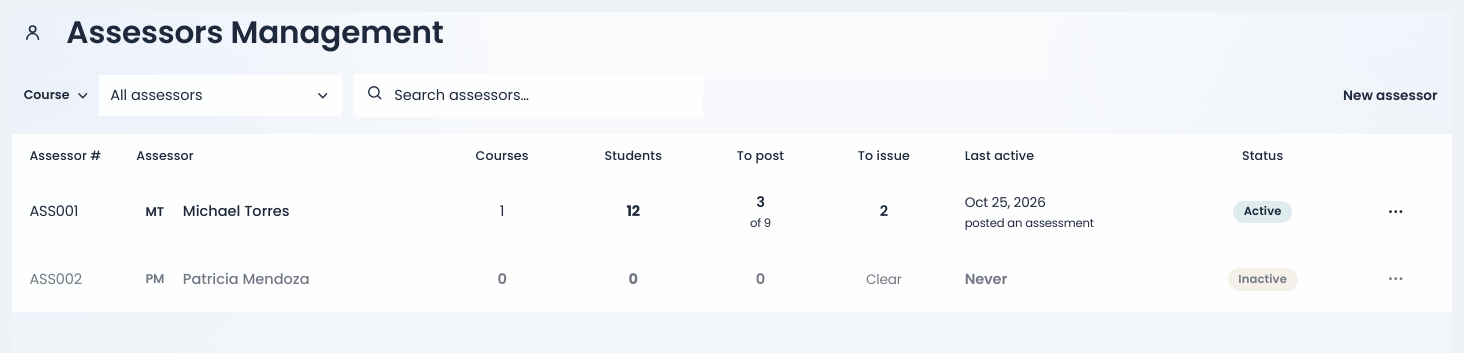
Test: AssessorsManagement — the students-list interface › narrows by status, which no dropdown here could answer before
Click the dropdown named "Choose what to filter assessors by" at (56,95), box [12,75,100,116]
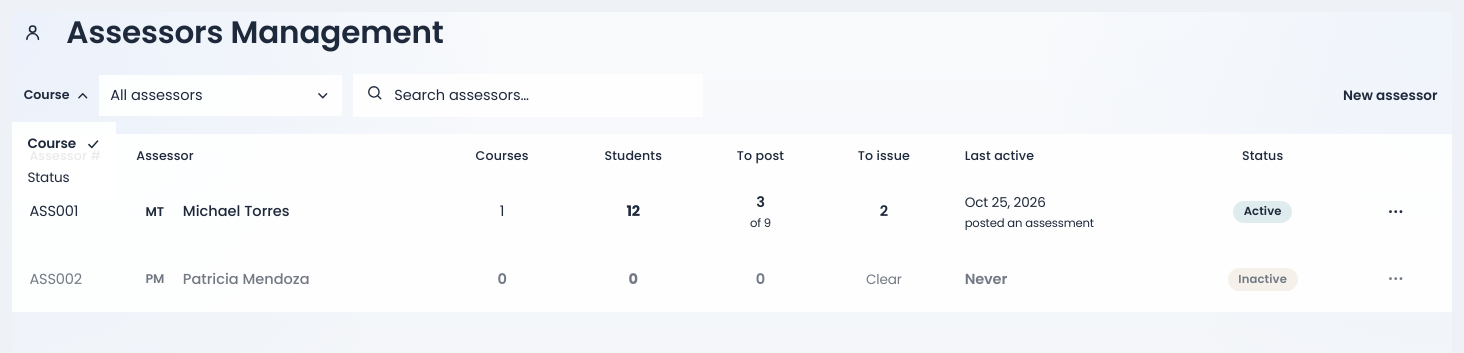
Press the mouse on the option "Status" at (48,178), box [28,168,69,187]
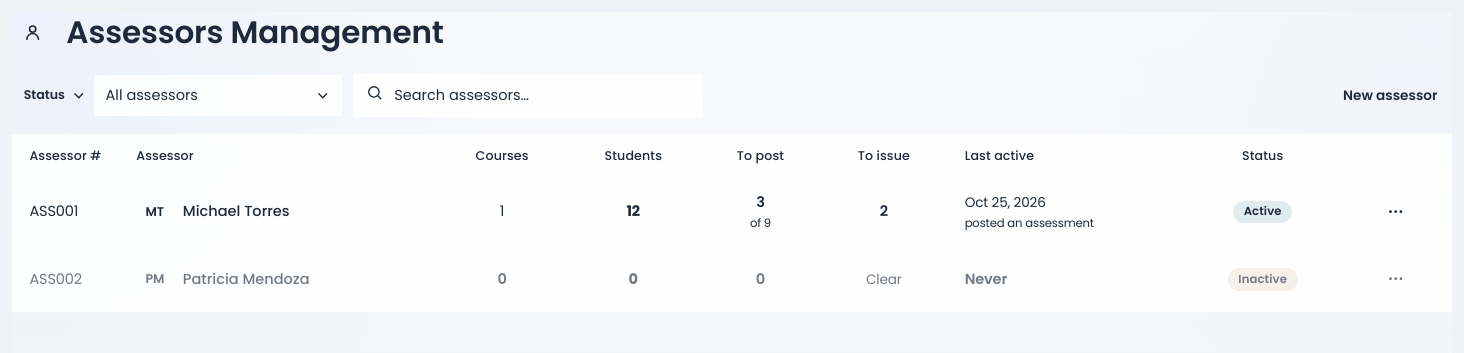
Click the dropdown named "Filter assessors by status" at (218,95), box [94,75,342,116]
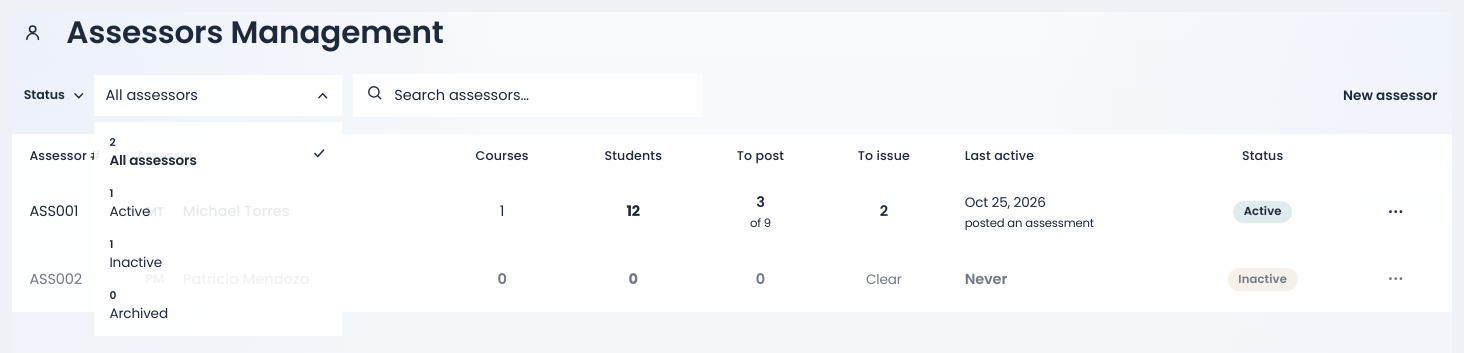
Press the mouse on the option "1 Inactive" at (136,254), box [109,237,162,272]
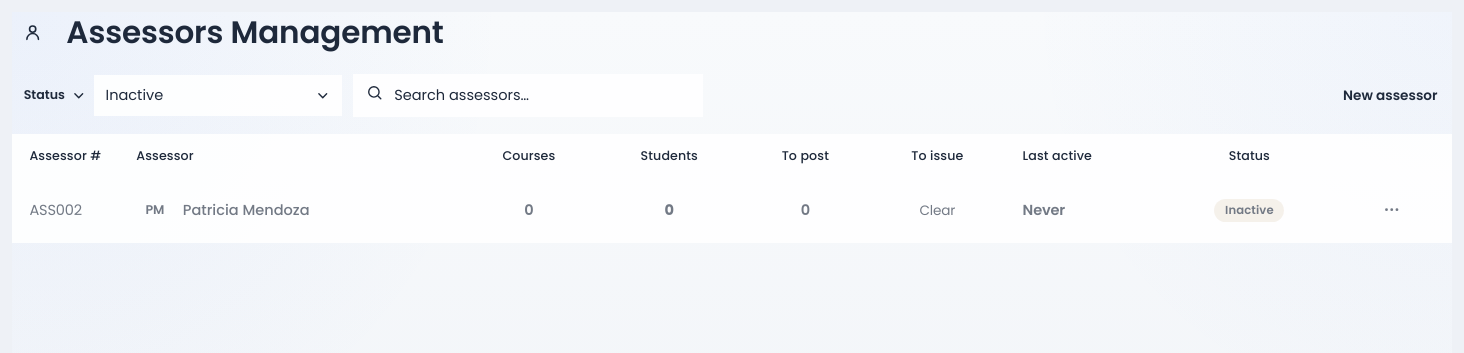
Check: the button "Patricia Mendoza" is shown, box [183,200,310,221]
Check: the button "Michael Torres" is gone
